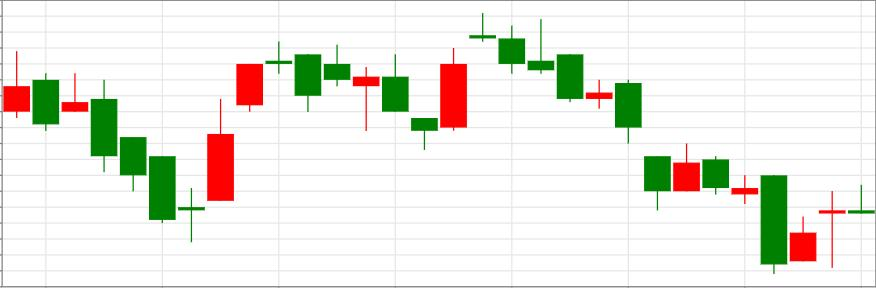morning_star_rise: (32, 73, 234, 242)
